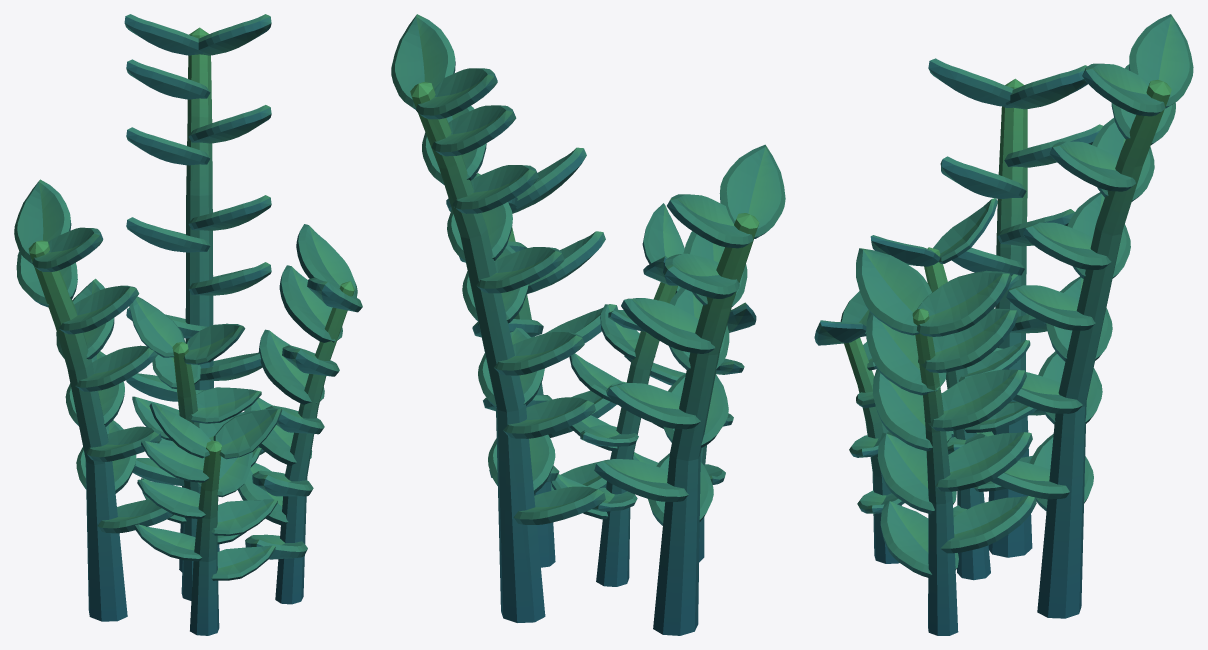
The model's file is plant-ivy.glb.
The picture shows the model from 3 angles, left to right: view 1: azimuth 30°, elevation 25°; view 2: azimuth 150°, elevation 25°; view 3: azimuth 270°, elevation 25°; orthographic projection. The views are drawn at different scales.
Parts seen in each view (by area): view 1: zzplant_plant_large; view 2: zzplant_plant_large; view 3: zzplant_plant_large.
Part boxes in pixels (bbox=[...]): zzplant_plant_large: bbox=[14, 14, 362, 635]; zzplant_plant_large: bbox=[391, 14, 785, 635]; zzplant_plant_large: bbox=[814, 14, 1193, 635].
Size of the model in its own units: 0.4 by 0.6702 by 0.3932.
Materials: 1 (1 with a texture image).
